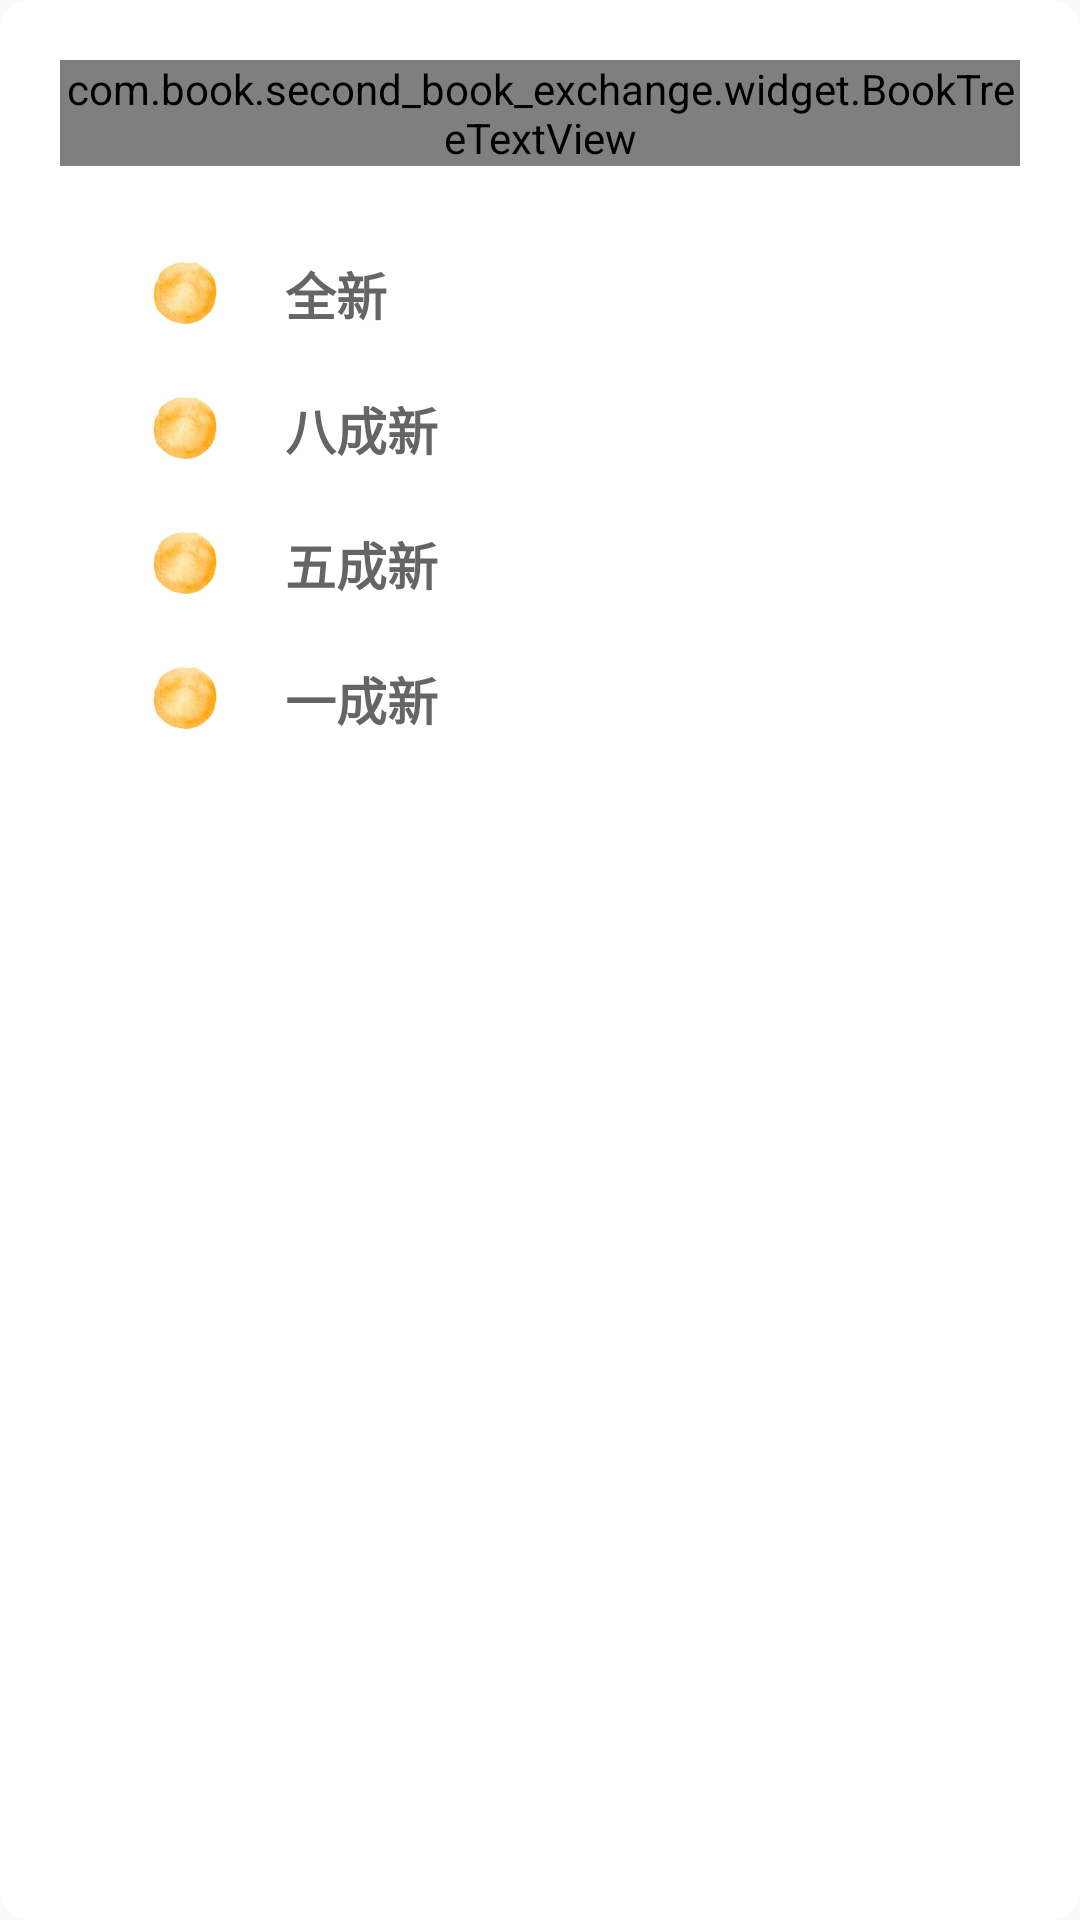

Named icons in this screenshot (1080 x 1920) and their centers, point (x, y):
yellowdot: point (185, 293), point (185, 428), point (185, 563), point (185, 698)
